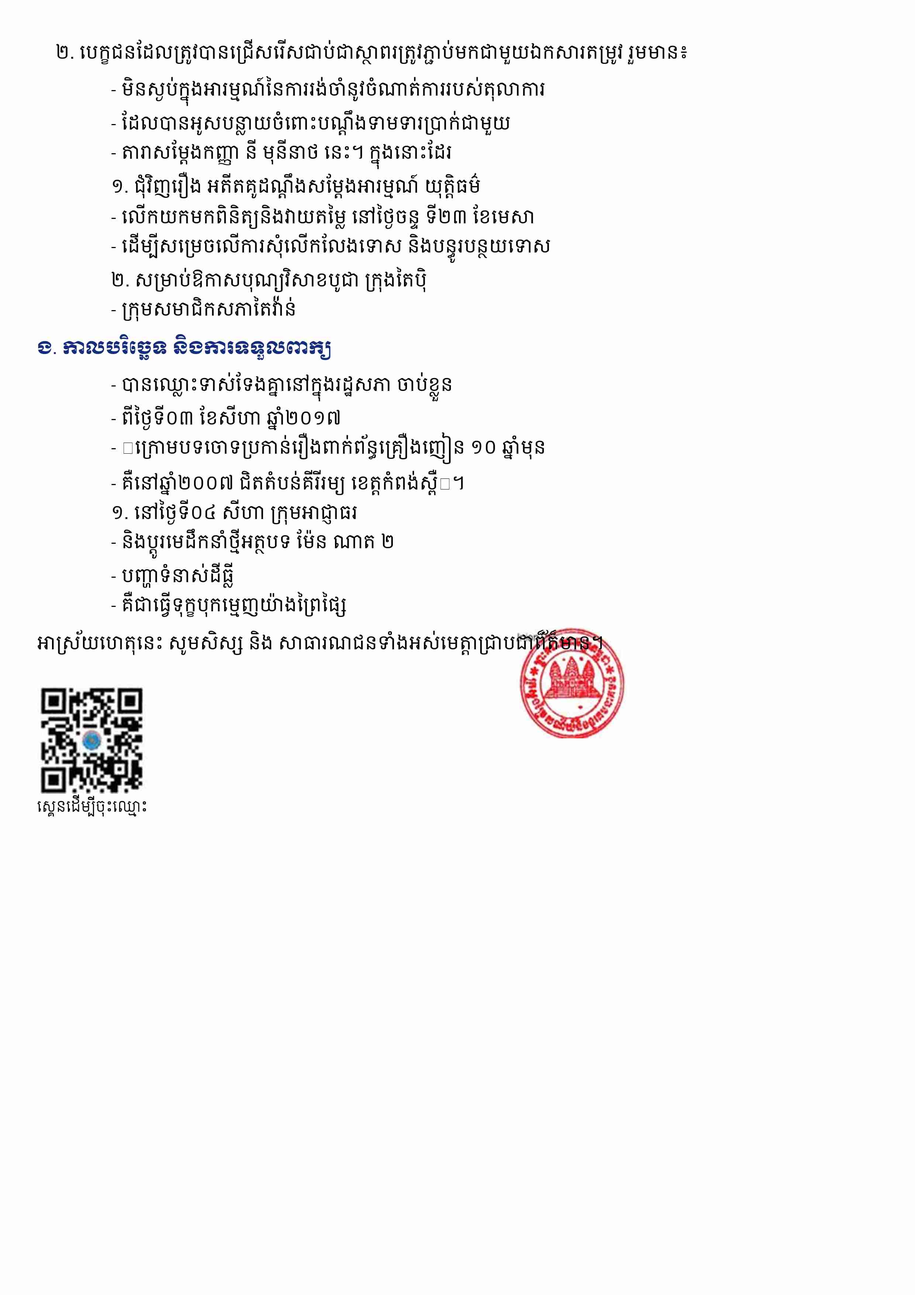decorative: (37, 683, 148, 794), (517, 628, 627, 738)
text: (55, 39, 689, 65), (37, 630, 604, 655), (111, 432, 546, 464), (111, 233, 551, 263), (111, 76, 546, 106), (111, 204, 535, 229), (111, 372, 453, 402), (111, 139, 452, 169), (111, 110, 511, 135), (111, 172, 481, 199), (111, 470, 465, 495), (111, 529, 395, 559), (111, 267, 427, 292), (37, 334, 331, 360), (111, 499, 358, 525), (111, 591, 346, 617), (111, 405, 342, 430), (111, 295, 297, 322), (111, 563, 234, 588), (37, 794, 148, 817)
